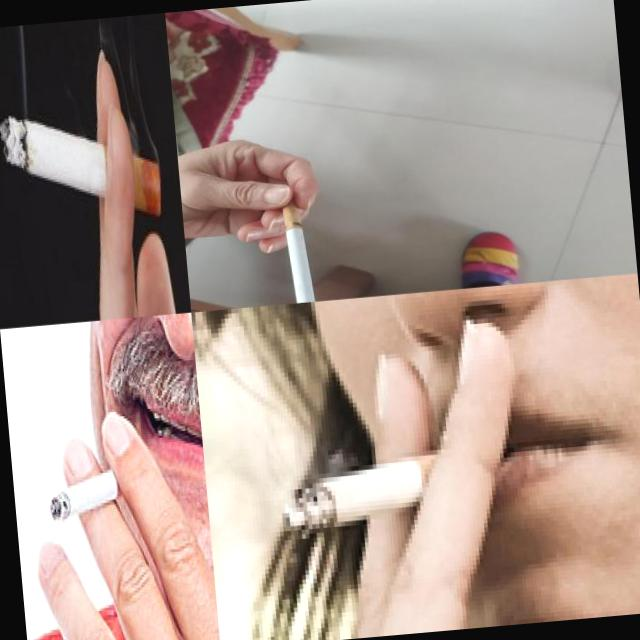cigarette: (0, 100, 163, 233), (276, 440, 489, 538), (46, 455, 141, 523), (280, 197, 318, 303)
